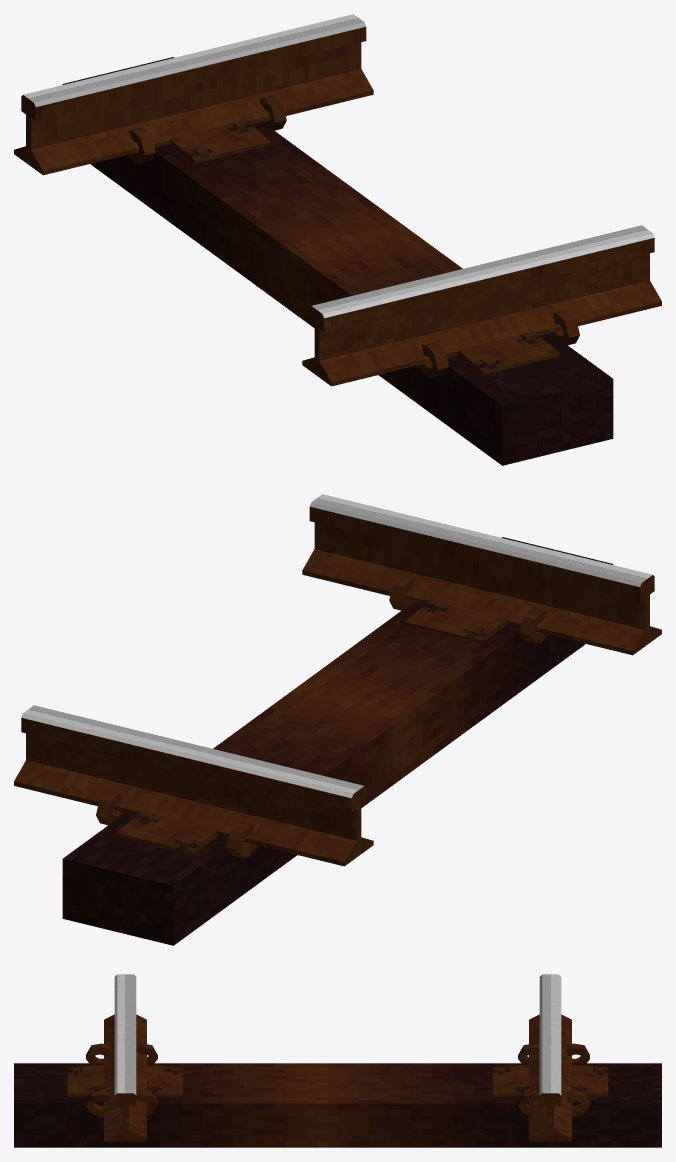
File: track_1m.obj
3 renders of one model, top to bottom at view 1: azimuth 30°, elevation 25°; view 2: azimuth 150°, elevation 25°; view 3: azimuth 270°, elevation 25°, orthographic. The views are drawn at different scales.
Parts seen in each view (by area): view 1: RAIL_BASE_Cube.002, RAIL_LEFT_Cube.001, RAIL_RIGHT_Cube.005, RAIL_LEFT.001_Cube.008, RAIL_RIGHT.001_Cube.007, RAIL_BASE.002_Cube.003; view 2: RAIL_BASE_Cube.002, RAIL_RIGHT_Cube.005, RAIL_LEFT_Cube.001, RAIL_RIGHT.001_Cube.007, RAIL_LEFT.001_Cube.008, RAIL_BASE.002_Cube.003; view 3: RAIL_BASE_Cube.002, RAIL_RIGHT_Cube.005, RAIL_LEFT_Cube.001, RAIL_BASE.002_Cube.003, RAIL_RIGHT.001_Cube.007, RAIL_LEFT.001_Cube.008.
Boxes of the visible parts, x1,y1,x2,y2 form: RAIL_BASE_Cube.002: [62, 57, 613, 465]; RAIL_LEFT_Cube.001: [302, 238, 661, 386]; RAIL_RIGHT_Cube.005: [14, 27, 373, 175]; RAIL_LEFT.001_Cube.008: [312, 225, 654, 318]; RAIL_RIGHT.001_Cube.007: [23, 14, 365, 106]; RAIL_BASE.002_Cube.003: [127, 96, 579, 377]; RAIL_BASE_Cube.002: [62, 537, 613, 945]; RAIL_RIGHT_Cube.005: [14, 718, 373, 866]; RAIL_LEFT_Cube.001: [302, 507, 661, 655]; RAIL_RIGHT.001_Cube.007: [21, 705, 363, 798]; RAIL_LEFT.001_Cube.008: [310, 494, 652, 586]; RAIL_BASE.002_Cube.003: [96, 576, 548, 857]; RAIL_BASE_Cube.002: [14, 1063, 661, 1147]; RAIL_RIGHT_Cube.005: [529, 1014, 571, 1141]; RAIL_LEFT_Cube.001: [104, 1014, 146, 1141]; RAIL_BASE.002_Cube.003: [86, 1043, 589, 1117]; RAIL_RIGHT.001_Cube.007: [539, 974, 561, 1095]; RAIL_LEFT.001_Cube.008: [114, 974, 136, 1095].
Bounding box in the file's own units: 1 × 0.3681 × 2.3.
1 material, 1 textured.
